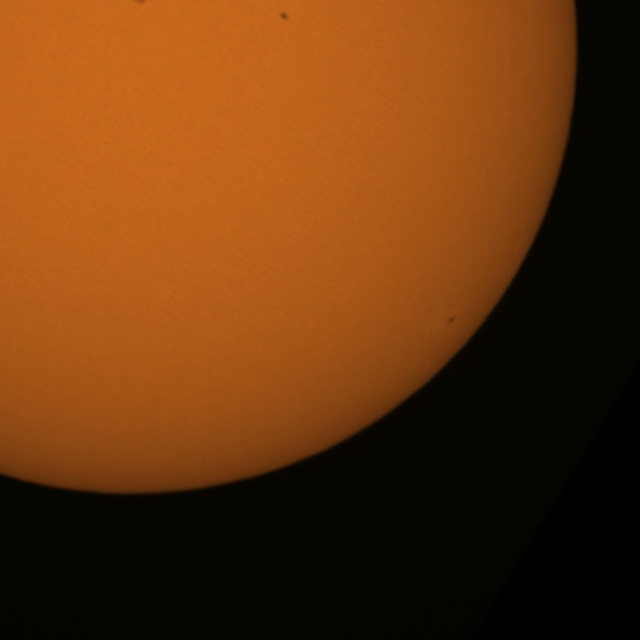sunspot: (446, 313, 458, 327), (278, 10, 290, 22), (132, 0, 149, 7)
